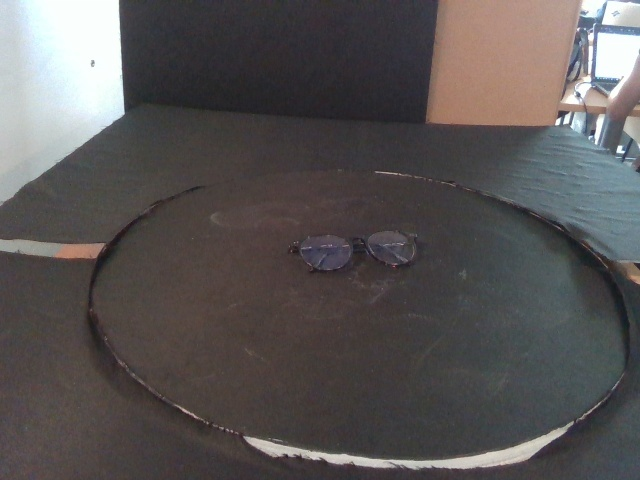glasses: (287, 227, 418, 274)
